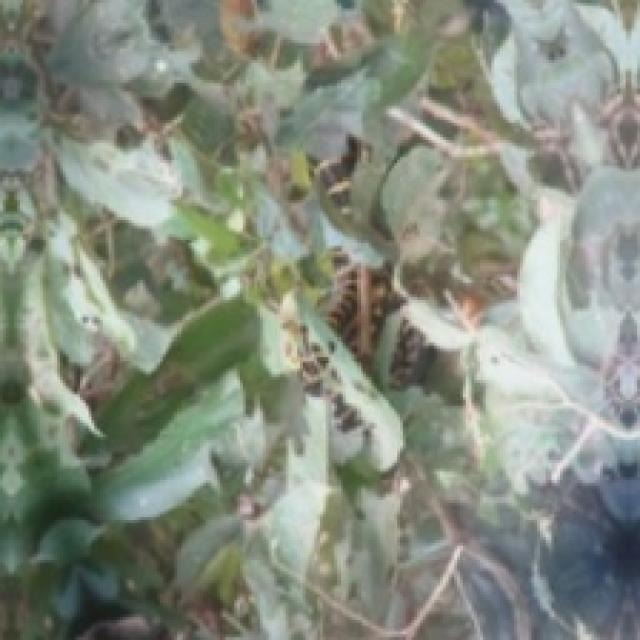mangrove cat snake: (294, 297, 400, 469)
